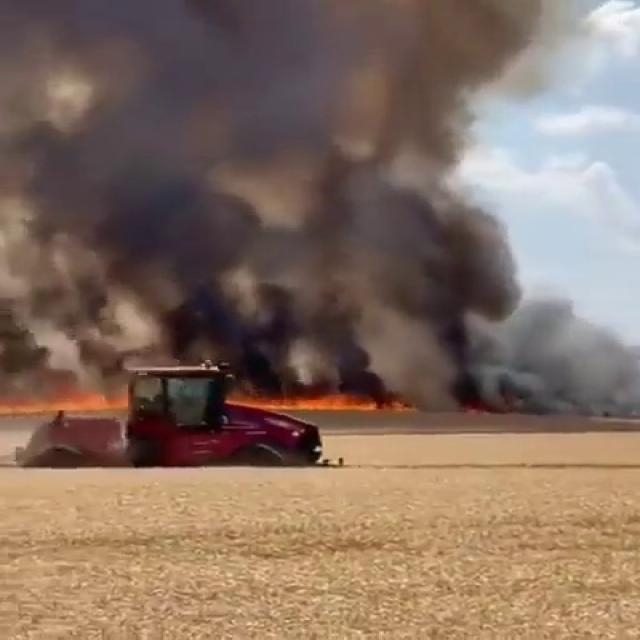Fire: (227, 394, 418, 418), (24, 392, 126, 414)
